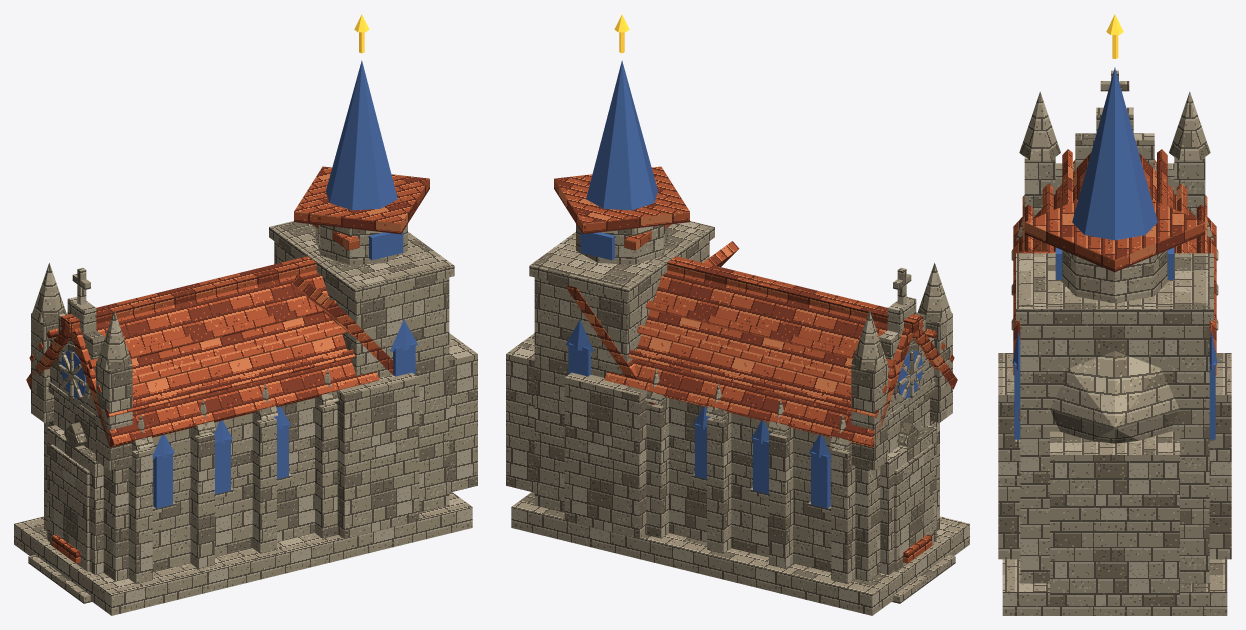
File: abbey_church_t1.glb
3 renders of one model, left to right at view 1: azimuth 30°, elevation 25°; view 2: azimuth 150°, elevation 25°; view 3: azimuth 270°, elevation 25°, orthographic. The views are drawn at different scales.
Visible parts, largest first — view 1: nave_roof_1, nave, crossing, plinth, transept, spire, spire_roof_skirt, apse, ridge_cap, archivolt_inner, buttress_1_1, buttress_2_1 (+21 smaller); view 2: nave_roof_0, nave, crossing, plinth, transept, spire, spire_roof_skirt, apse, ridge_cap, archivolt_inner, buttress_2_0, buttress_1_0 (+21 smaller); view 3: crossing, apse, apse_cap, transept, spire, spire_roof_skirt, plinth, spire_drum, crossing_cornice, west_flanking_spire_0, west_flanking_spire_1, nave_roof_0 (+13 smaller).
Part boxes in pixels (box(x1,y1,x2,y2)): nave_roof_1: box(70, 270, 379, 447); nave: box(44, 396, 314, 581); crossing: box(274, 222, 449, 512); plinth: box(14, 492, 472, 615); transept: box(334, 372, 419, 538); spire: box(326, 60, 397, 210); spire_roof_skirt: box(294, 166, 429, 234); apse: box(449, 333, 477, 492); ridge_cap: box(61, 256, 316, 332); archivolt_inner: box(50, 444, 89, 571); buttress_1_1: box(190, 432, 214, 568); buttress_2_1: box(252, 417, 276, 553); nave_roof_0: box(604, 270, 913, 447); nave: box(669, 396, 939, 581); crossing: box(534, 222, 709, 512); plinth: box(511, 492, 969, 615); transept: box(564, 372, 648, 538); spire: box(586, 60, 657, 210); spire_roof_skirt: box(554, 166, 689, 234); apse: box(506, 333, 534, 492); ridge_cap: box(667, 256, 922, 332); archivolt_inner: box(894, 444, 933, 571); buttress_2_0: box(707, 417, 731, 553); buttress_1_0: box(769, 432, 793, 568); crossing: box(1020, 254, 1209, 583); apse: box(1050, 431, 1179, 606); apse_cap: box(1050, 351, 1179, 443); transept: box(998, 353, 1231, 559); spire: box(1072, 67, 1157, 240); spire_roof_skirt: box(1024, 200, 1205, 272); plinth: box(1002, 559, 1227, 615); spire_drum: box(1060, 250, 1169, 303); crossing_cornice: box(1016, 253, 1213, 320); west_flanking_spire_0: box(1169, 91, 1210, 160); west_flanking_spire_1: box(1019, 91, 1060, 160); nave_roof_0: box(1138, 152, 1216, 375).
Size of what is drawn, in the model's own units: 4.75 by 5.71 by 2.12.
Materials: 4 (2 with a texture image).
